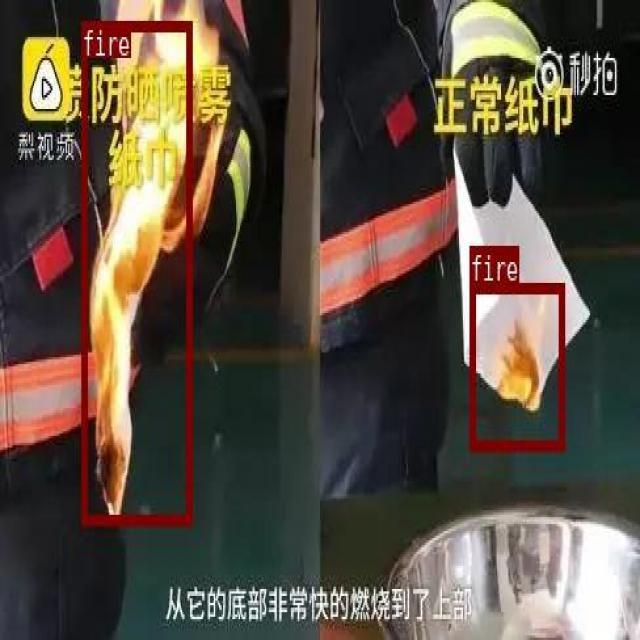fire: (80, 20, 191, 523), (469, 283, 563, 450)
